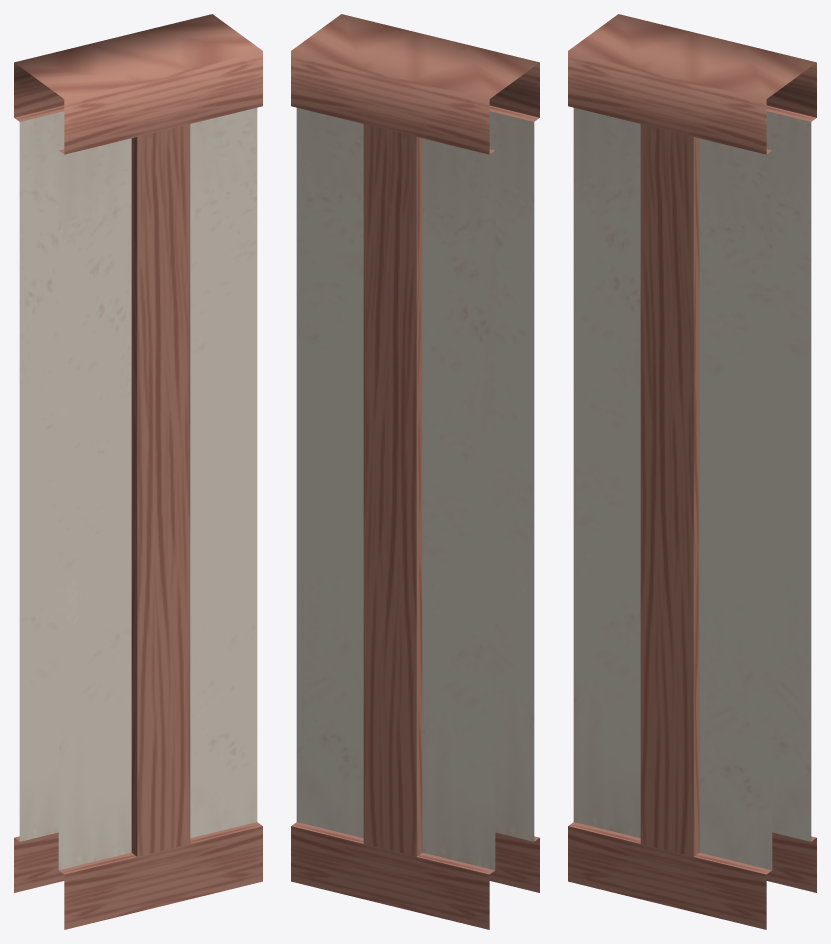
Rendered from paret_soportado2.fbx.
3 views of the same model, side by side, from view 1: azimuth 30°, elevation 25°; view 2: azimuth 150°, elevation 25°; view 3: azimuth 330°, elevation 25° (orthographic).
Visible parts, largest first — view 1: Pared_Soportado.002; view 2: Pared_Soportado.002; view 3: Pared_Soportado.002.
Boxes of the visible parts, x1,y1,x2,y2 form: Pared_Soportado.002: (14, 14, 262, 929); Pared_Soportado.002: (291, 14, 539, 929); Pared_Soportado.002: (568, 14, 816, 929).
Size of the model in its own units: 100 by 400 by 44.
